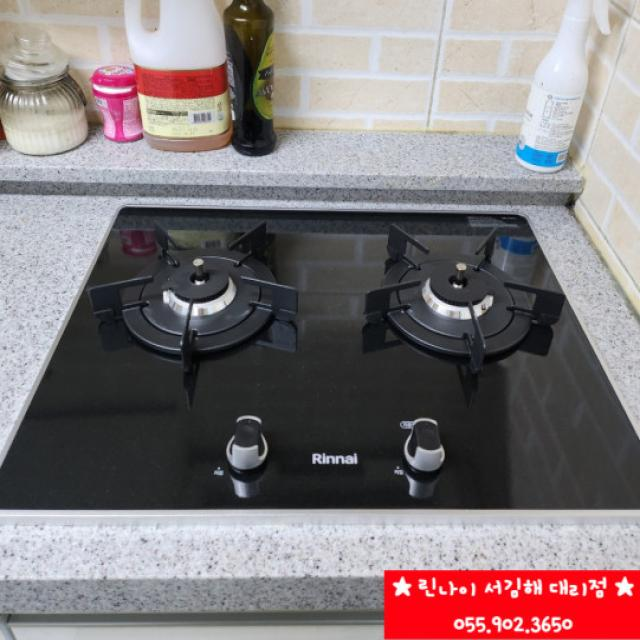knob_OFF: (323, 218, 577, 388), (100, 213, 315, 383)
